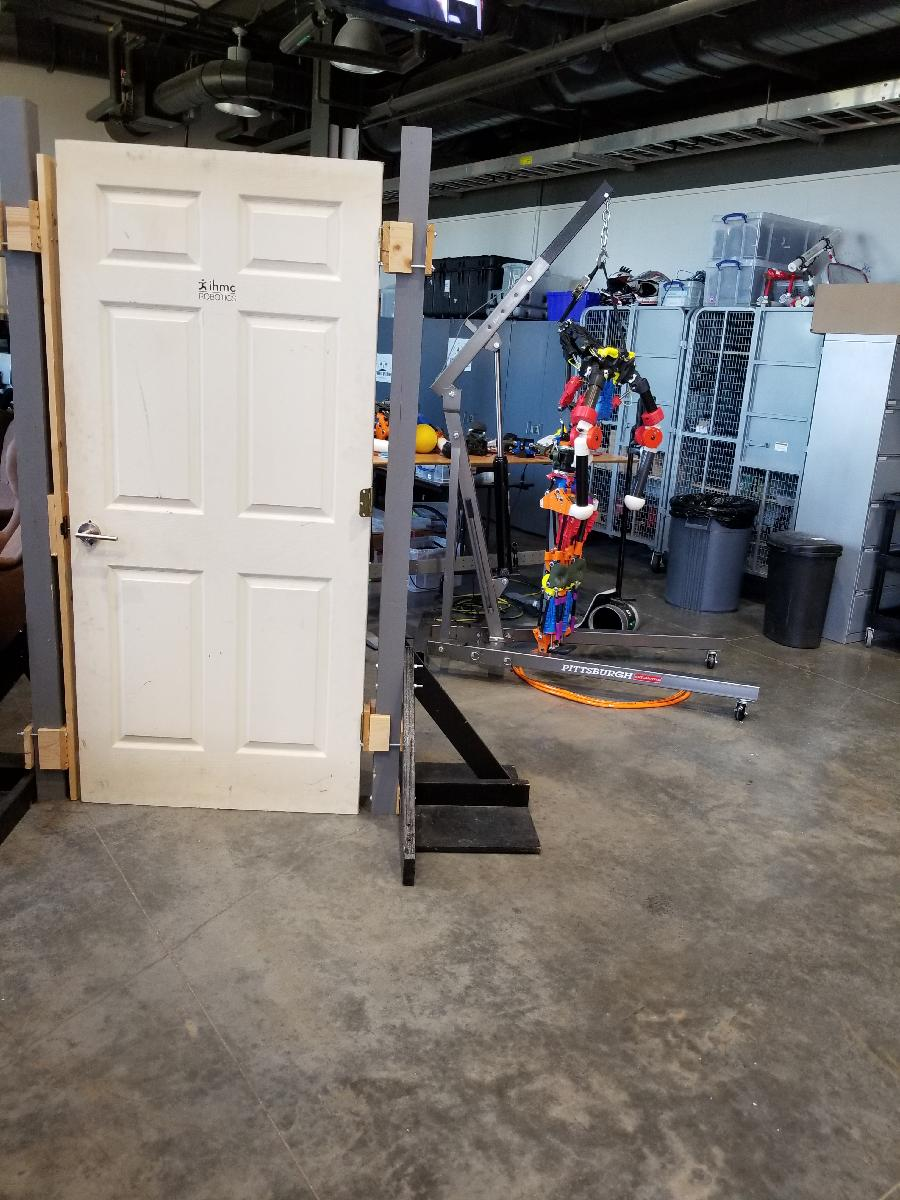door: (48, 135, 390, 830)
doorHandle: (80, 519, 124, 550)
